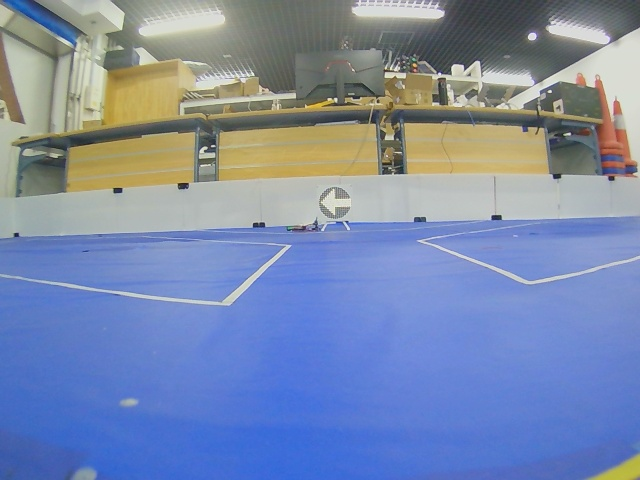left_yellow: (319, 187, 352, 220)
